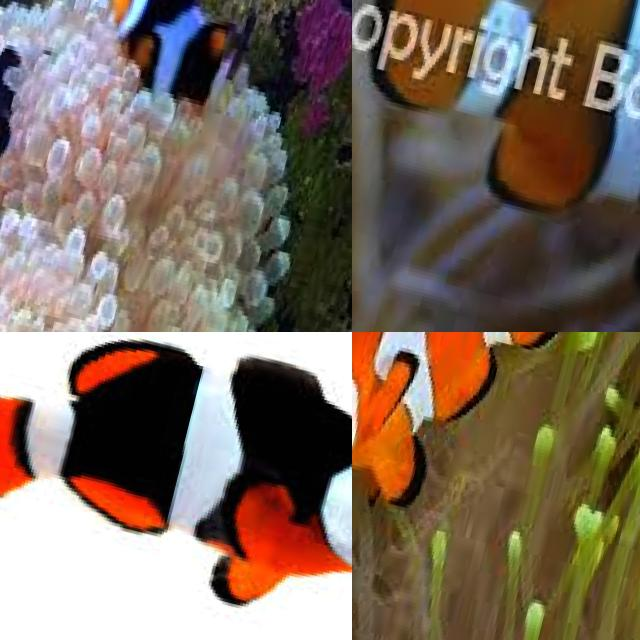Amphiprion-percula: (0, 332, 352, 640), (352, 0, 640, 332), (352, 332, 606, 573), (45, 0, 273, 175), (0, 0, 91, 201), (352, 332, 482, 442)
